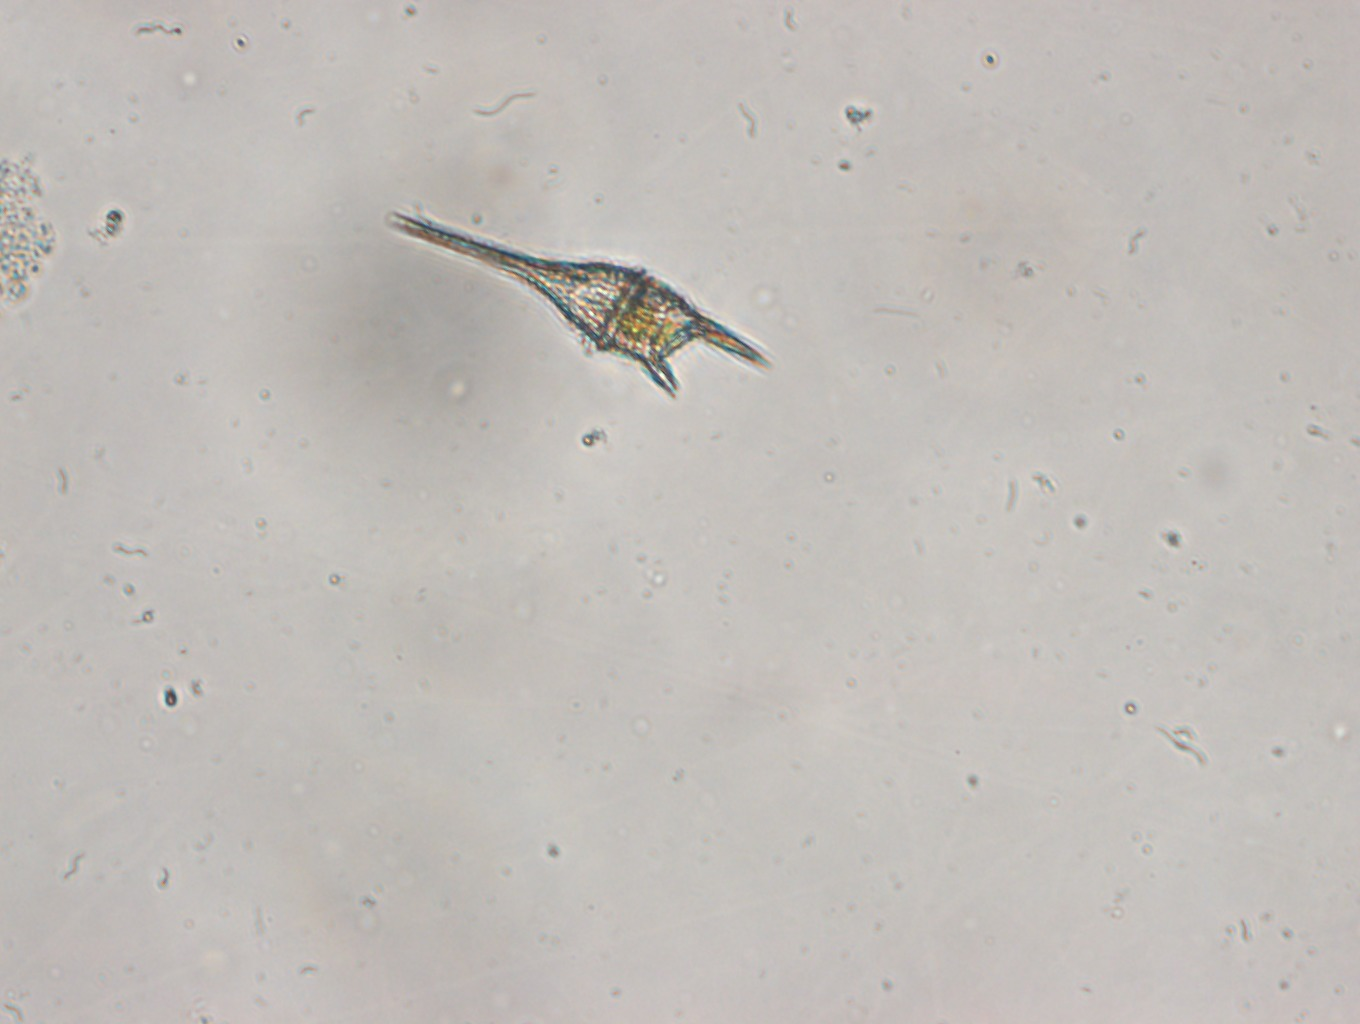ceratium furca: (370, 207, 776, 402)
